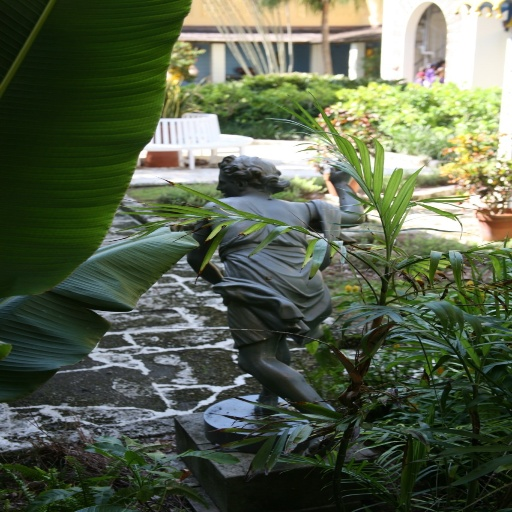hand: (324, 157, 353, 182)
